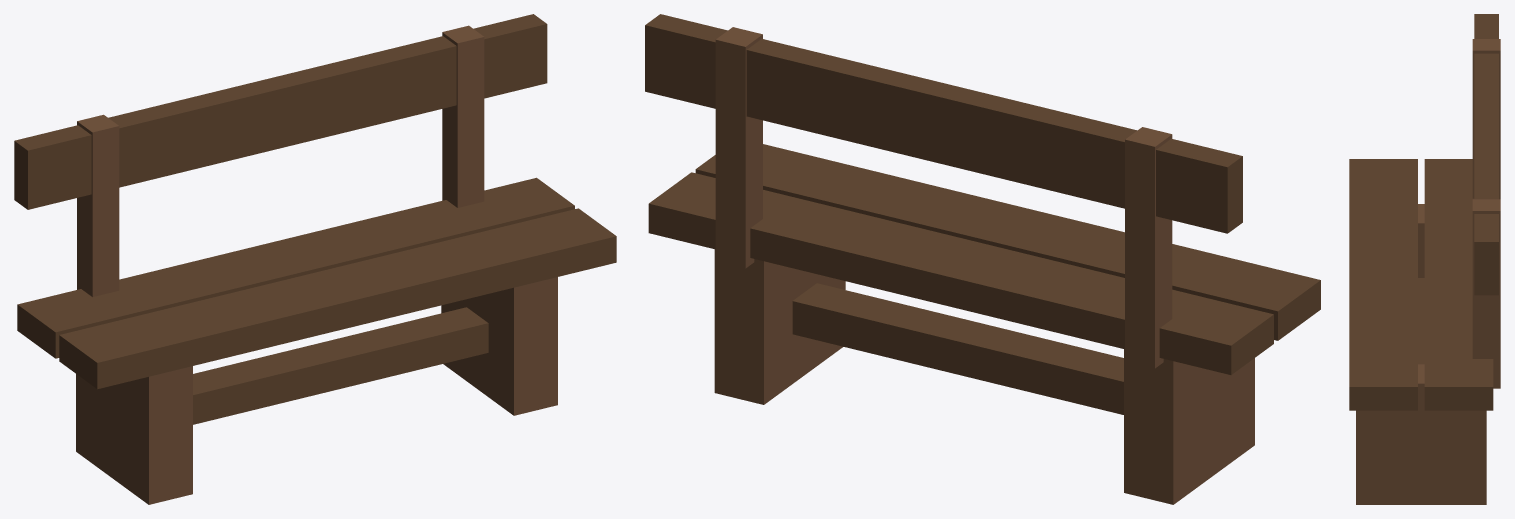
File: bench.glb
3 views of the same model, side by side, from view 1: azimuth 30°, elevation 25°; view 2: azimuth 150°, elevation 25°; view 3: azimuth 270°, elevation 25° (orthographic). The views are drawn at different scales.
Visible parts, largest first — view 1: bench; view 2: bench; view 3: bench.
Boxes of the visible parts, left/top/right/bottom form: bench: left=14, top=14, right=616, bottom=504; bench: left=645, top=14, right=1320, bottom=504; bench: left=1349, top=14, right=1500, bottom=504.
Size of the model in its own units: 0.55 by 0.3267 by 0.1542.
